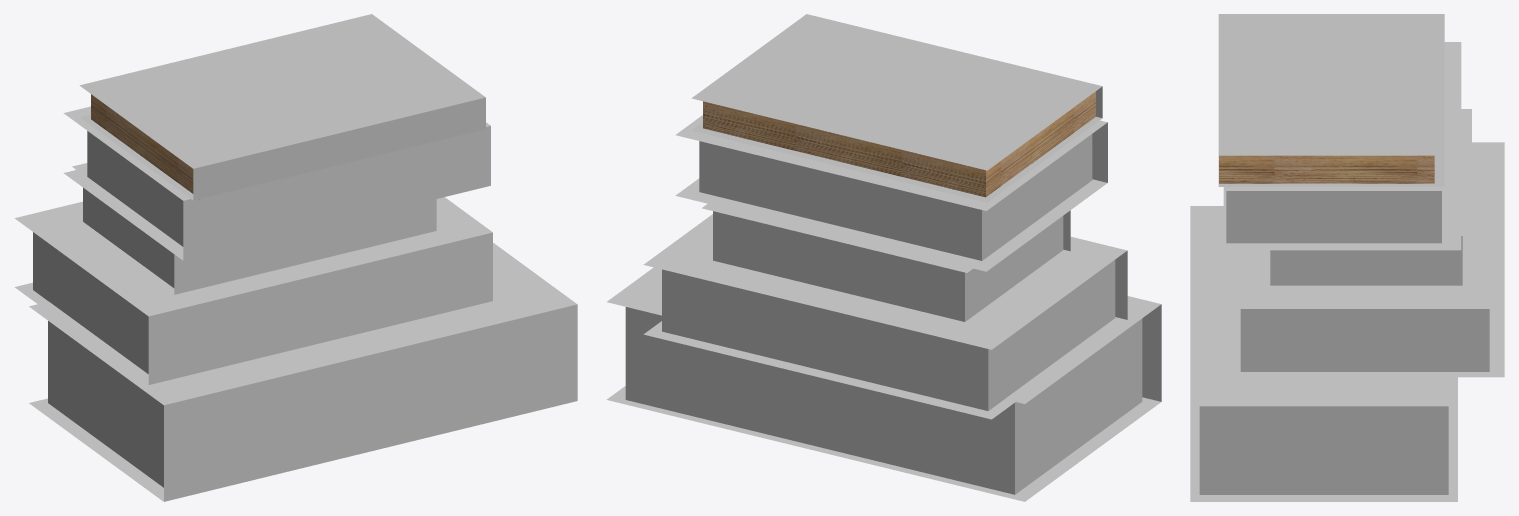
The model's file is books.fbx.
The picture shows the model from 3 angles, left to right: view 1: azimuth 30°, elevation 25°; view 2: azimuth 150°, elevation 25°; view 3: azimuth 270°, elevation 25°; orthographic projection. The views are drawn at different scales.
Visible parts, largest first — view 1: Cube_Cube.001, Cube.005_Cube.006, Cube.001_Cube.002, Cube.004_Cube.005, Cube.008_Cube.012, Cube.002_Cube.003, Cube.003_Cube.011, Cube.007_Cube.008, Cube.009_Cube.010, Cube.006_Cube.007; view 2: Cube.008_Cube.012, Cube.005_Cube.006, Cube.003_Cube.011, Cube.007_Cube.008, Cube.009_Cube.010, Cube.001_Cube.002, Cube.006_Cube.007, Cube_Cube.001, Cube.004_Cube.005, Cube.002_Cube.003; view 3: Cube.005_Cube.006, Cube.008_Cube.012, Cube_Cube.001, Cube.003_Cube.011, Cube.001_Cube.002, Cube.007_Cube.008, Cube.009_Cube.010, Cube.004_Cube.005, Cube.006_Cube.007, Cube.002_Cube.003.
Boxes of the visible parts, left/top/right/bottom form: Cube_Cube.001: left=29, top=243, right=577, bottom=501; Cube.005_Cube.006: left=79, top=14, right=485, bottom=200; Cube.001_Cube.002: left=14, top=197, right=492, bottom=384; Cube.004_Cube.005: left=63, top=106, right=490, bottom=260; Cube.008_Cube.012: left=48, top=321, right=163, bottom=487; Cube.002_Cube.003: left=72, top=163, right=436, bottom=294; Cube.003_Cube.011: left=33, top=232, right=148, bottom=373; Cube.007_Cube.008: left=87, top=131, right=183, bottom=246; Cube.009_Cube.010: left=83, top=187, right=174, bottom=287; Cube.006_Cube.007: left=91, top=94, right=199, bottom=199; Cube.008_Cube.012: left=625, top=307, right=1142, bottom=494; Cube.005_Cube.006: left=691, top=14, right=1102, bottom=202; Cube.003_Cube.011: left=662, top=260, right=1115, bottom=410; Cube.007_Cube.008: left=699, top=134, right=1092, bottom=260; Cube.009_Cube.010: left=713, top=211, right=1063, bottom=321; Cube.001_Cube.002: left=643, top=214, right=1127, bottom=419; Cube.006_Cube.007: left=703, top=91, right=1095, bottom=197; Cube_Cube.001: left=606, top=267, right=1161, bottom=501; Cube.004_Cube.005: left=675, top=115, right=1107, bottom=271; Cube.002_Cube.003: left=702, top=204, right=1070, bottom=326; Cube.005_Cube.006: left=1218, top=14, right=1444, bottom=186; Cube.008_Cube.012: left=1199, top=406, right=1448, bottom=494; Cube_Cube.001: left=1190, top=206, right=1457, bottom=501; Cube.003_Cube.011: left=1240, top=309, right=1489, bottom=371; Cube.001_Cube.002: left=1238, top=142, right=1504, bottom=377; Cube.007_Cube.008: left=1226, top=191, right=1441, bottom=243; Cube.009_Cube.010: left=1270, top=236, right=1462, bottom=285; Cube.004_Cube.005: left=1223, top=42, right=1461, bottom=250; Cube.006_Cube.007: left=1219, top=155, right=1434, bottom=183; Cube.002_Cube.003: left=1269, top=109, right=1471, bottom=288.
Bounding box in the file's own units: 14.58 × 10.5 × 9.68.
